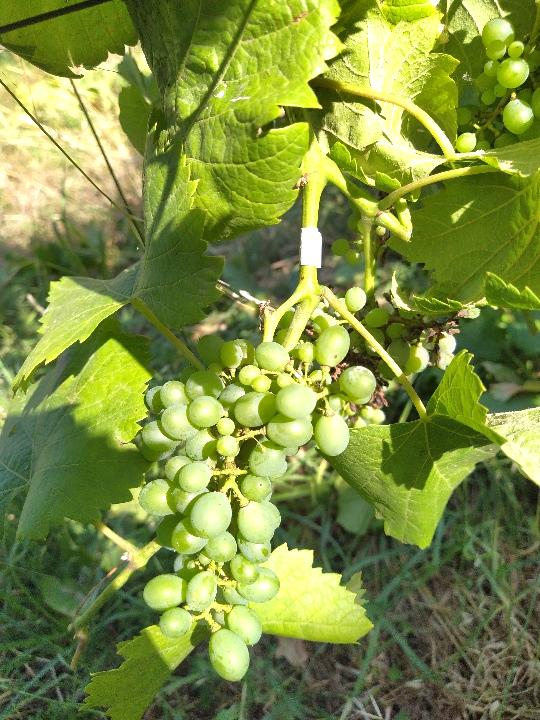grape: (108, 322, 383, 688)
